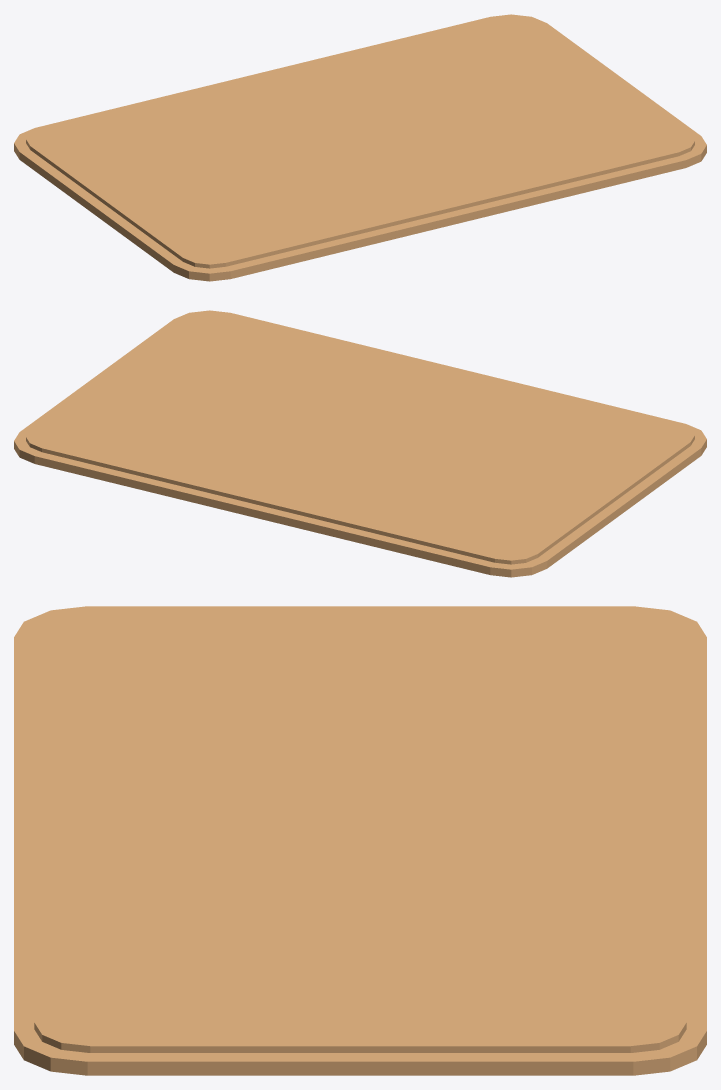
File: TapeteBanheiro.fbx
3 views of the same model, one above another, from view 1: azimuth 30°, elevation 25°; view 2: azimuth 150°, elevation 25°; view 3: azimuth 270°, elevation 25° (orthographic). The views are drawn at different scales.
Visible parts, largest first — view 1: Cube; view 2: Cube; view 3: Cube.
Part boxes in pixels (box(x1,y1,x2,y2)): Cube: box(14, 14, 706, 281); Cube: box(14, 310, 706, 577); Cube: box(14, 606, 706, 1075).
Size of the model in its own units: 70 by 1.5 by 45.
